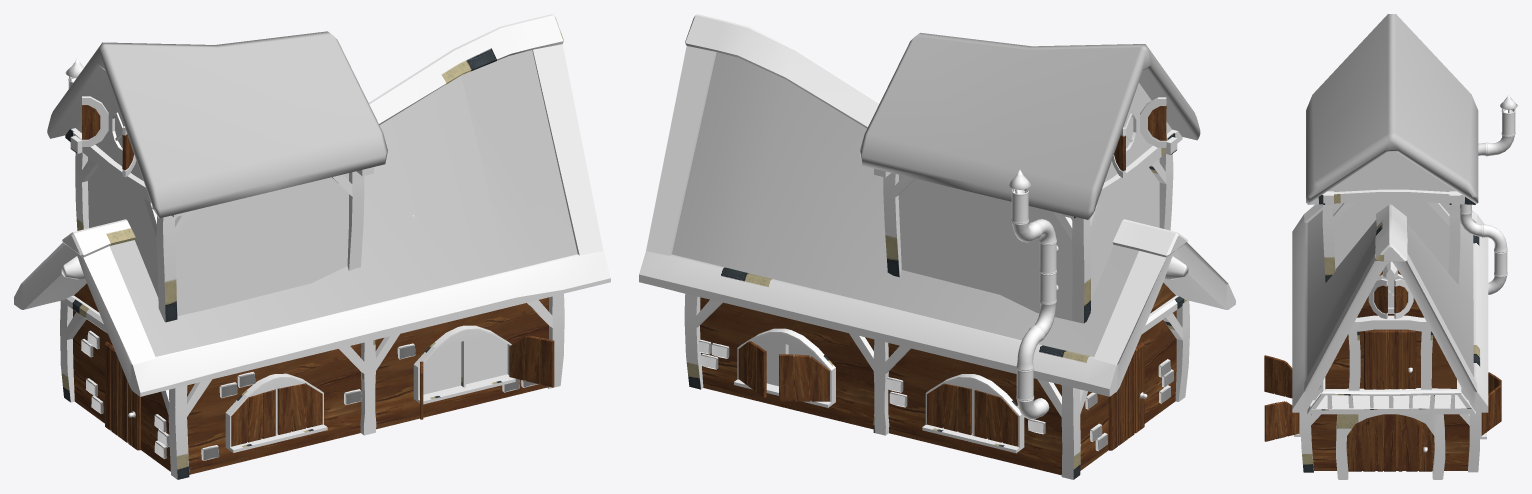
The model's file is House_5.fbx.
The picture shows the model from 3 angles, left to right: view 1: azimuth 30°, elevation 25°; view 2: azimuth 150°, elevation 25°; view 3: azimuth 270°, elevation 25°; orthographic projection. The views are drawn at different scales.
Visible parts, largest first — view 1: House_5; view 2: House_5; view 3: House_5.
Boxes of the visible parts, box(x1,y1,x2,y2) form: House_5: box(14, 14, 610, 479); House_5: box(639, 14, 1235, 479); House_5: box(1264, 14, 1517, 479).
Bounding box in the file's own units: 1053 × 807 × 602.
